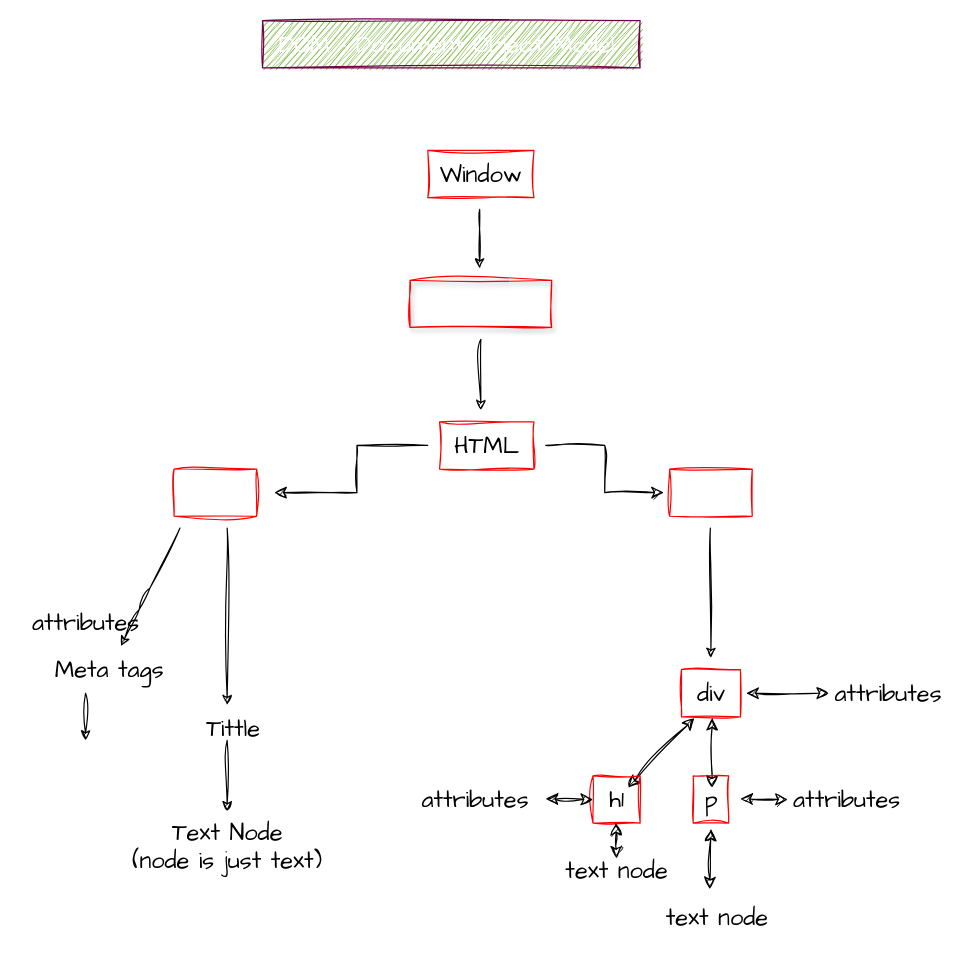
Some shapes in this 972 by 962 pixel diagram are drawn without their labels. Here are the shapes that lost their labels. From the top down, the centre of each, then its label:
(481,305): Document
(215,492): Head
(710,492): body
